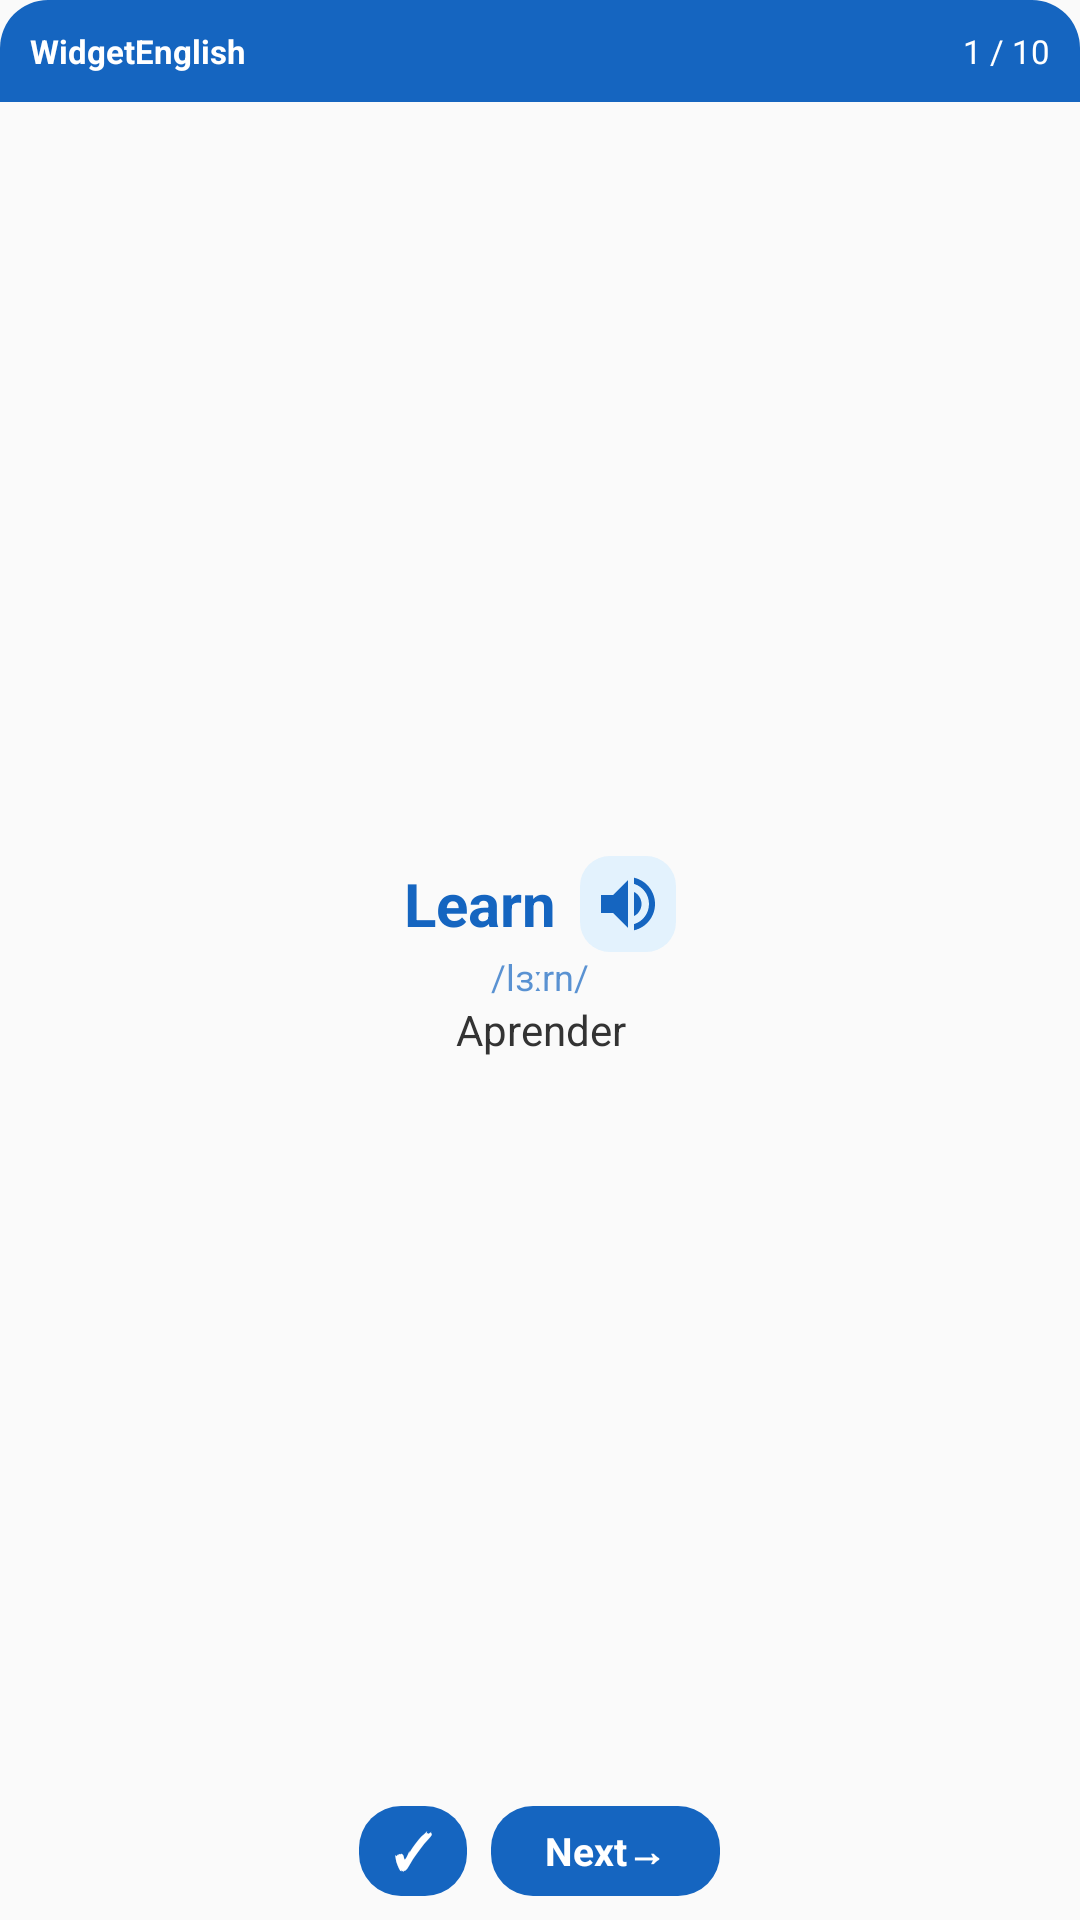

Where icons sit on this 1080px×1920px app screen, as (x1, y1, x2, y2):
Reproducir pronunciación: (580, 856, 676, 952)
